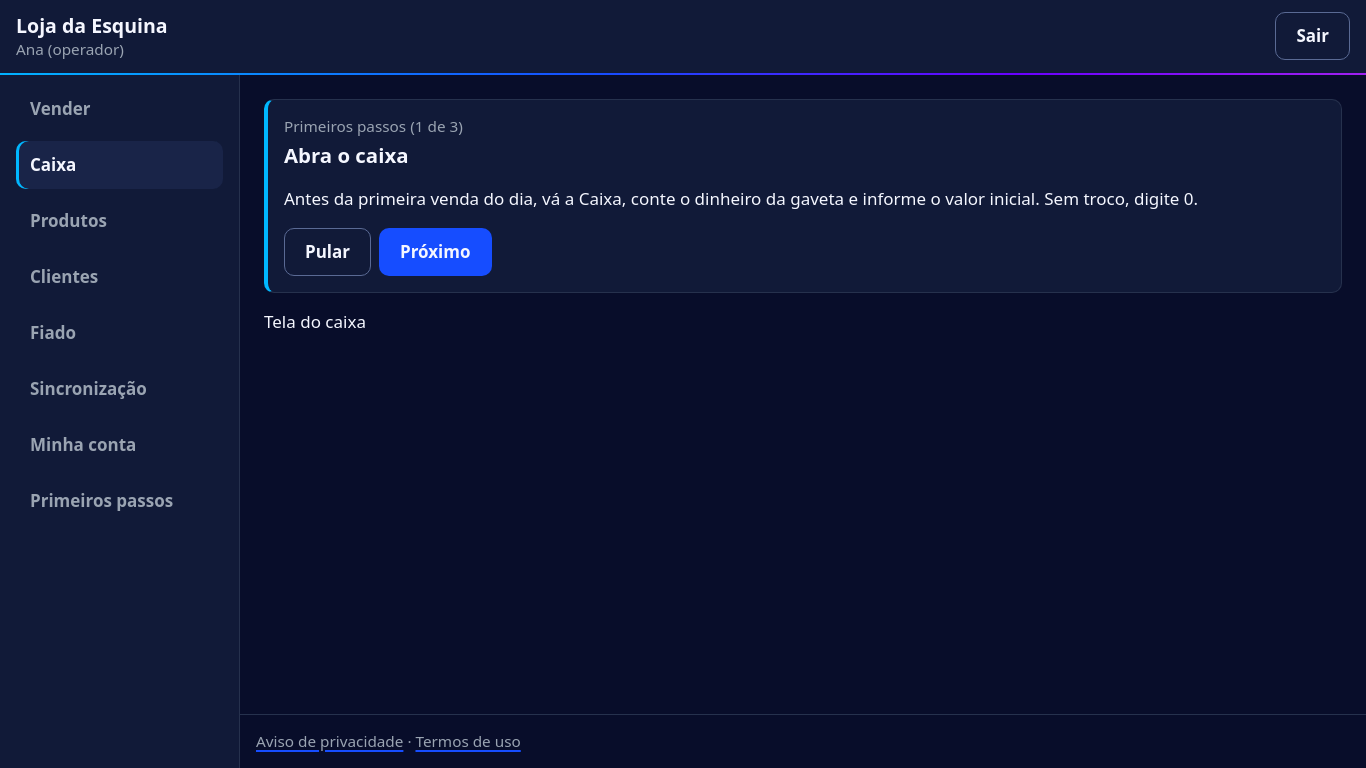
Test case: primeiros passos no Shell › aparecem no primeiro acesso, passam pelos três cartões e não voltam depois de começar
Expected: the text "Primeiros passos (1 de 3)" is shown, [284,116,463,136]
Expected: the heading "Abra o caixa" is shown, [284,141,408,169]
Click the button "Próximo" at (435, 252), box [379,228,492,276]
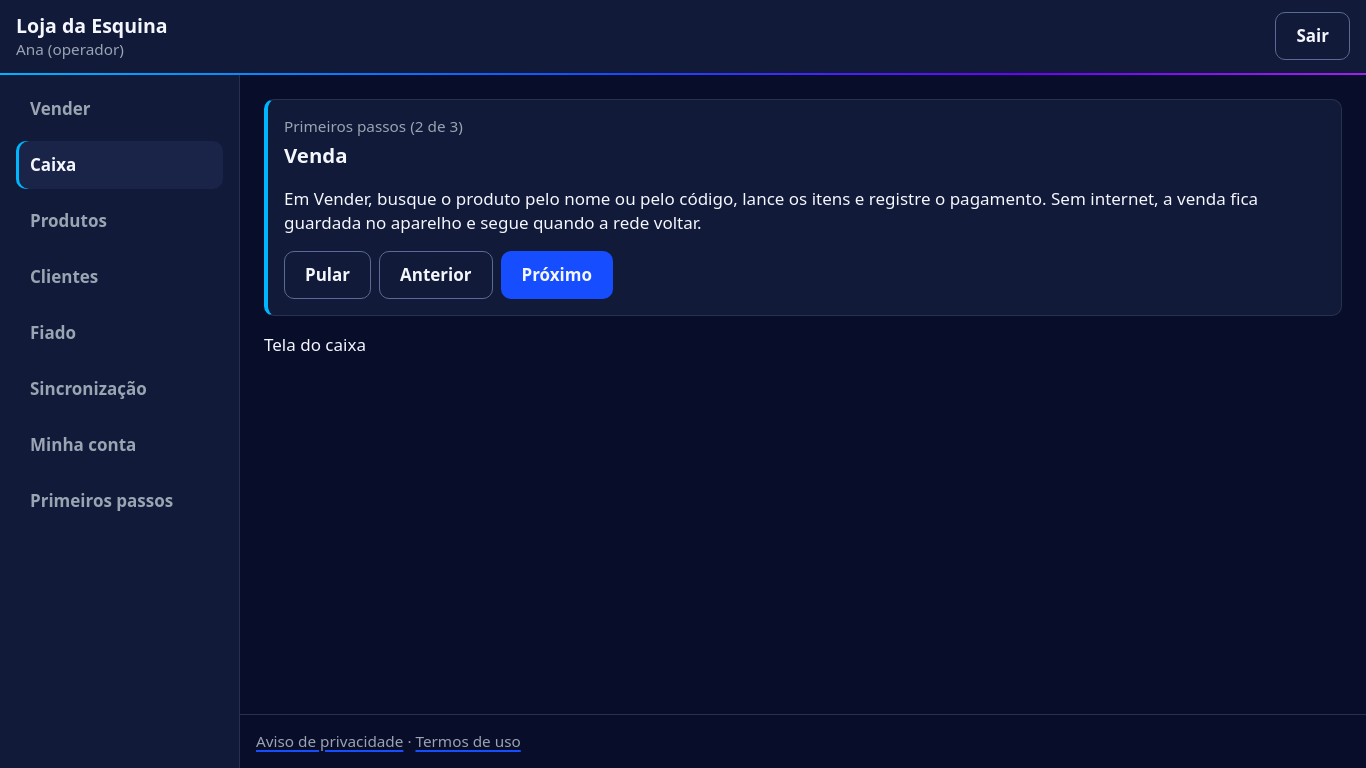
Expected: the heading "Venda" is shown, [284,141,348,169]
Click the button "Anterior" at (436, 275), box [379,251,492,299]
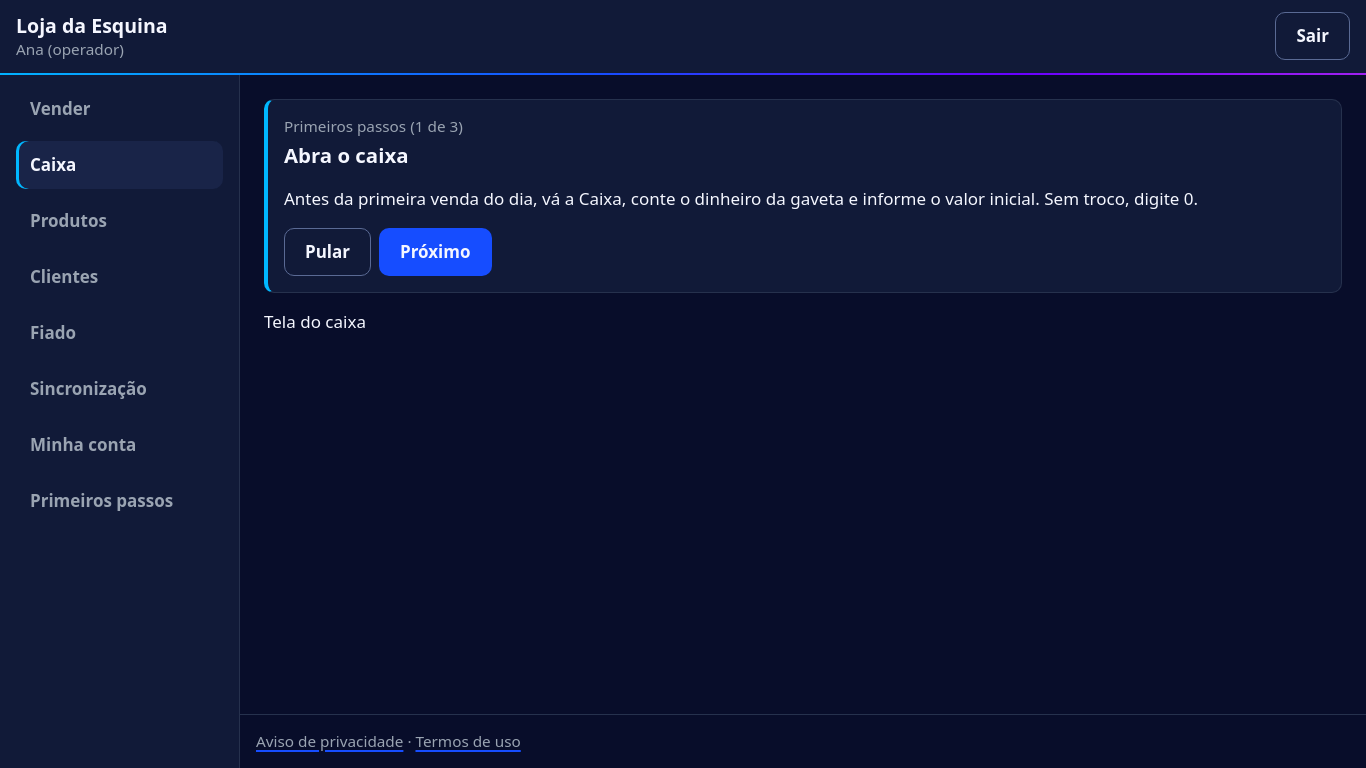
Expected: the heading "Abra o caixa" is shown, [284,141,408,169]
Click the button "Próximo" at (435, 252), box [379,228,492,276]
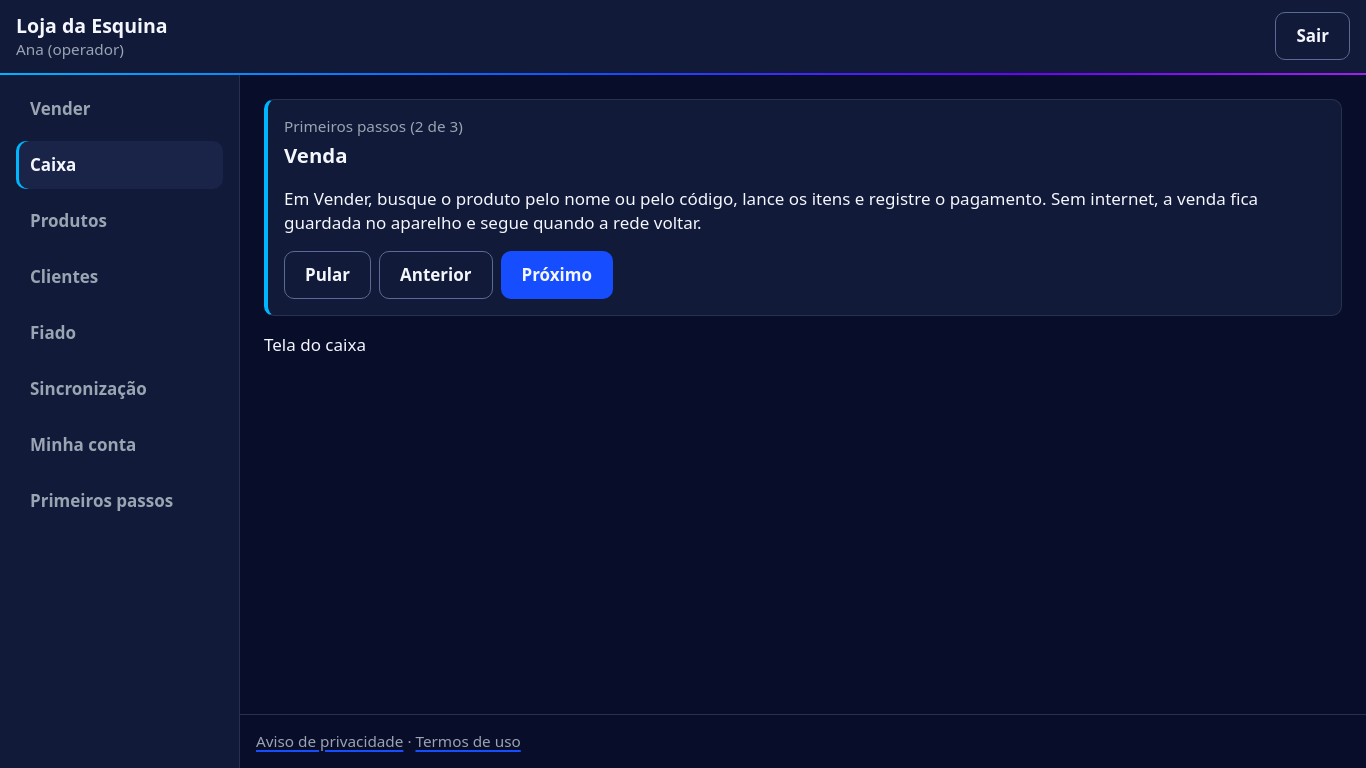
Click the button "Próximo" at (557, 275), box [500,251,613,299]
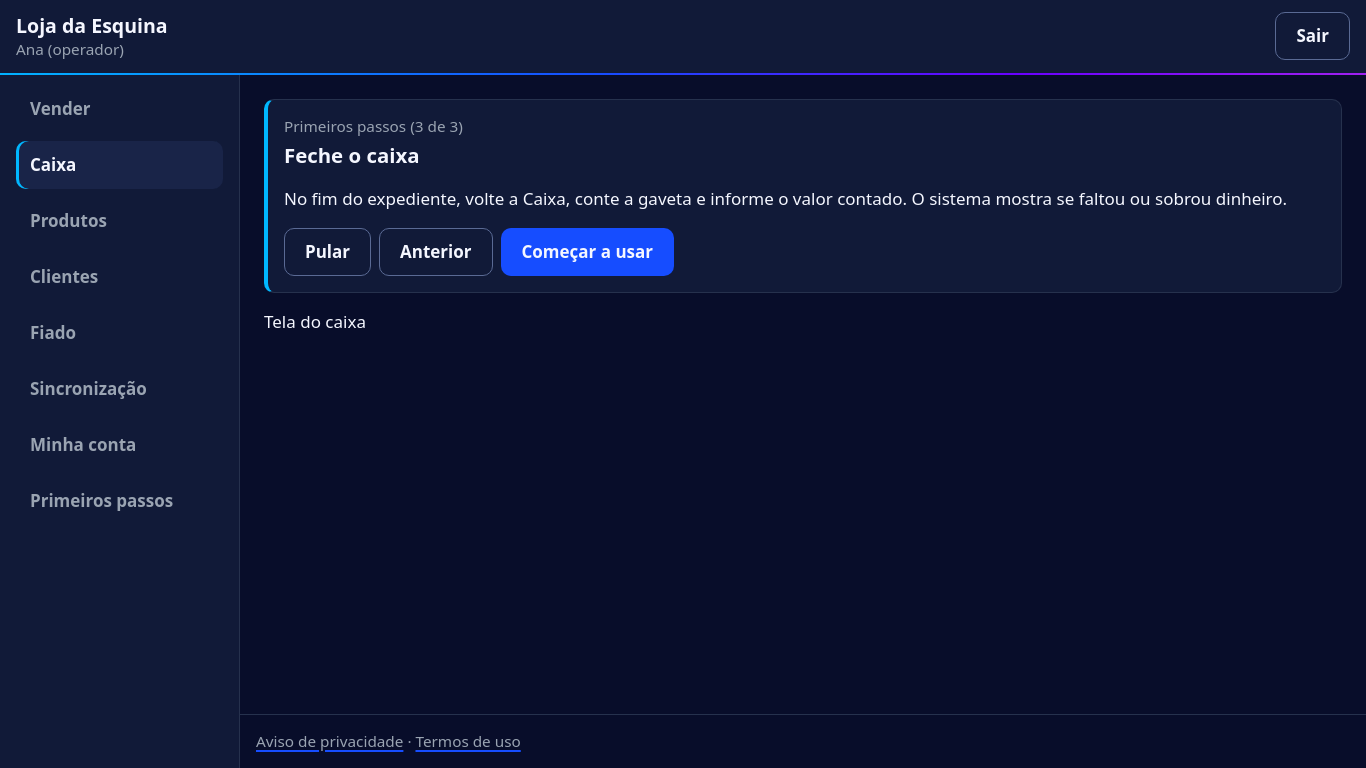
Expected: the heading "Feche o caixa" is shown, [284,141,420,169]
Click the button "Começar a usar" at (587, 252), box [500,228,674,276]
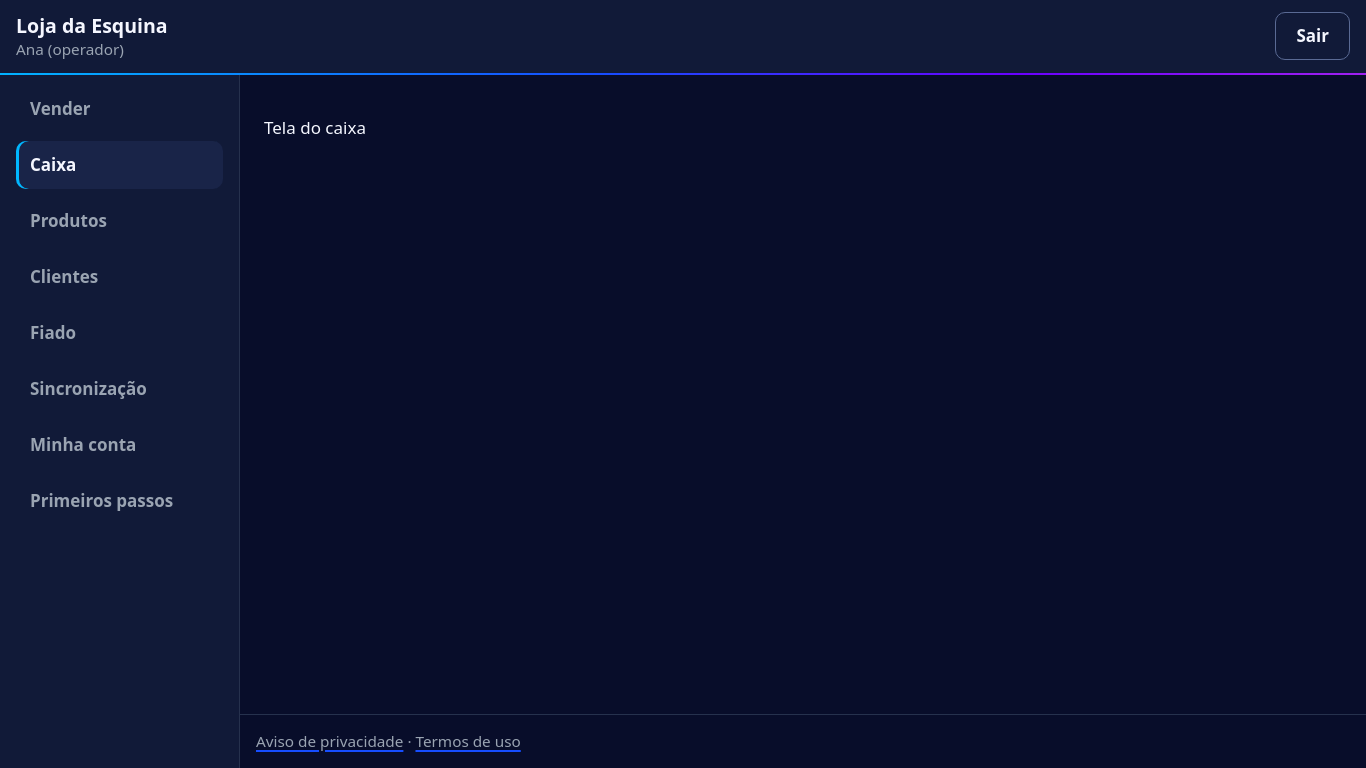
Expected: the text "Primeiros passos (" is gone
